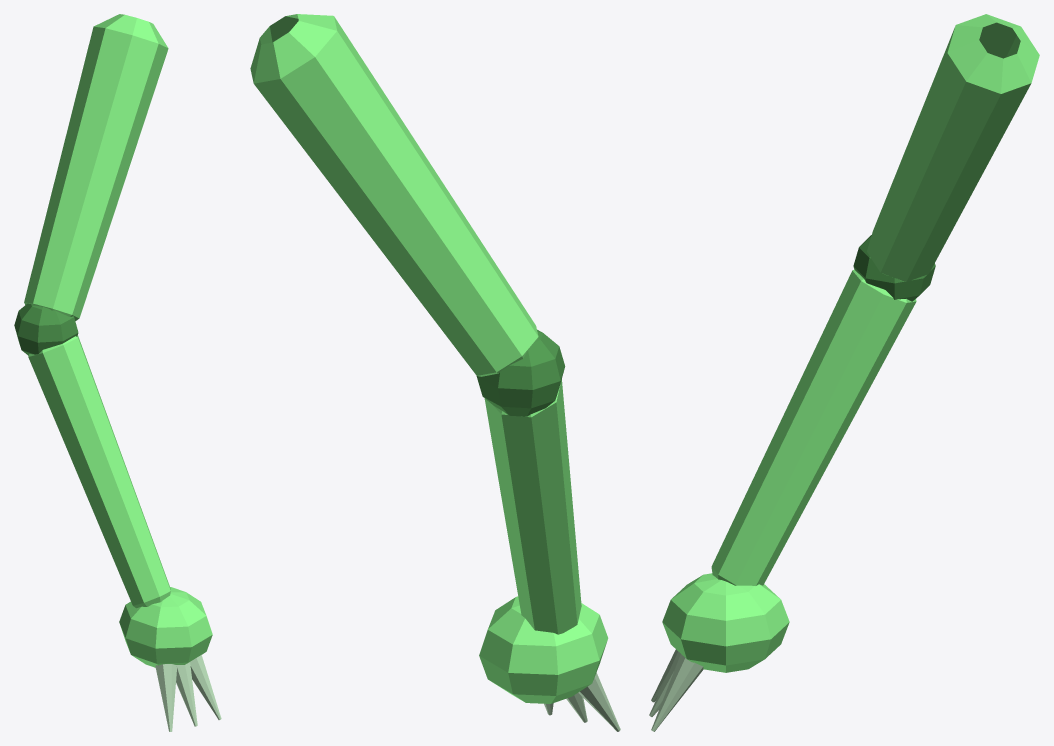
The model's file is imp_arm_L.obj.
3 views of the same model, side by side, from view 1: azimuth 30°, elevation 25°; view 2: azimuth 150°, elevation 25°; view 3: azimuth 270°, elevation 25° (orthographic). The views are drawn at different scales.
Parts seen in each view (by area): view 1: arm_upper_L, arm_lower_L, hand_L, arm_joint_L, claw_L_0, claw_L_2, claw_L_1; view 2: arm_upper_L, arm_lower_L, hand_L, arm_joint_L, claw_L_0; view 3: arm_upper_L, arm_lower_L, hand_L, arm_joint_L, claw_L_2.
Part boxes in pixels (x1,y1,x2,y2): arm_upper_L: [24, 14, 168, 320]; arm_lower_L: [28, 335, 170, 608]; hand_L: [119, 587, 212, 667]; arm_joint_L: [14, 303, 78, 355]; claw_L_0: [155, 664, 176, 731]; claw_L_2: [190, 655, 221, 719]; claw_L_1: [176, 662, 197, 726]; arm_upper_L: [250, 14, 538, 376]; arm_lower_L: [484, 379, 581, 634]; hand_L: [479, 596, 608, 703]; arm_joint_L: [476, 329, 565, 416]; claw_L_0: [578, 672, 620, 731]; arm_upper_L: [867, 14, 1039, 281]; arm_lower_L: [711, 269, 916, 585]; hand_L: [662, 573, 789, 672]; arm_joint_L: [853, 235, 935, 301]; claw_L_2: [651, 654, 703, 731].
Size of the model in its own units: 0.2642 by 0.824 by 0.3966.
